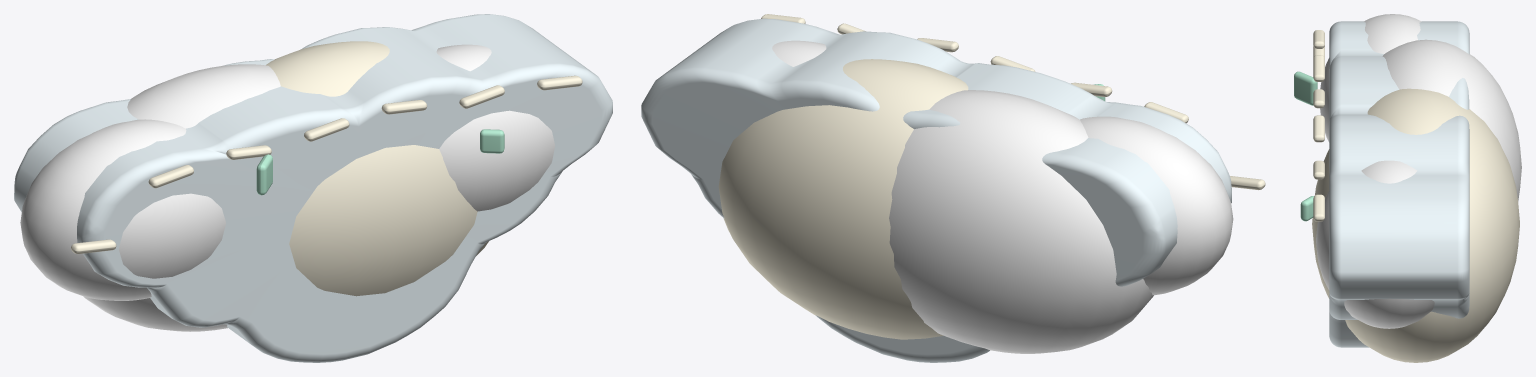
File: cloud_candy_volume.glb
3 views of the same model, side by side, from view 1: azimuth 30°, elevation 25°; view 2: azimuth 150°, elevation 25°; view 3: azimuth 270°, elevation 25° (orthographic). The views are drawn at different scales.
Visible parts, largest first — view 1: CloudReferenceSilhouetteVolume, CenterReferencePuff, LeftReferencePuff, RightReferencePuff, UpperReferencePuff, MintSparkSmall, MintSpark, ReferenceTopHighlight5, ReferenceTopHighlight3, ReferenceTopHighlight1, ReferenceTopHighlight0, ReferenceTopHighlight6 (+2 smaller); view 2: UpperReferencePuff, CloudReferenceSilhouetteVolume, CenterReferencePuff, LeftReferencePuff, RightReferencePuff; view 3: CloudReferenceSilhouetteVolume, CenterReferencePuff, UpperReferencePuff, RightReferencePuff, LeftReferencePuff, MintSpark, ReferenceTopHighlight4, ReferenceTopHighlight6, ReferenceTopHighlight2, MintSparkSmall, ReferenceTopHighlight3, ReferenceTopHighlight5 (+1 smaller).
Part boxes in pixels (x1,y1,x2,y2): CloudReferenceSilhouetteVolume: (14,14,612,362); CenterReferencePuff: (266,41,488,296); LeftReferencePuff: (20,119,225,300); RightReferencePuff: (436,44,554,211); UpperReferencePuff: (83,64,280,331); MintSparkSmall: (480,129,504,153); MintSpark: (256,154,272,195); ReferenceTopHighlight5: (459,85,504,108); ReferenceTopHighlight3: (304,118,349,141); ReferenceTopHighlight1: (148,165,193,188); ReferenceTopHighlight0: (71,239,116,254); ReferenceTopHighlight6: (537,75,582,90); UpperReferencePuff: (889,90,1153,353); CloudReferenceSilhouetteVolume: (641,18,1231,362); CenterReferencePuff: (718,59,968,339); LeftReferencePuff: (1080,116,1233,295); RightReferencePuff: (772,40,826,66); CloudReferenceSilhouetteVolume: (1329,21,1469,347); CenterReferencePuff: (1312,88,1519,362); UpperReferencePuff: (1382,39,1521,201); RightReferencePuff: (1316,160,1434,328); LeftReferencePuff: (1320,14,1421,142); MintSpark: (1294,71,1317,105); ReferenceTopHighlight4: (1313,115,1324,142); ReferenceTopHighlight6: (1313,194,1324,221); ReferenceTopHighlight2: (1313,55,1324,81); MintSparkSmall: (1300,196,1313,221); ReferenceTopHighlight3: (1313,89,1324,108); ReferenceTopHighlight5: (1313,160,1324,179).
Size of the model in its own units: 1.69 by 0.7787 by 0.6824.
